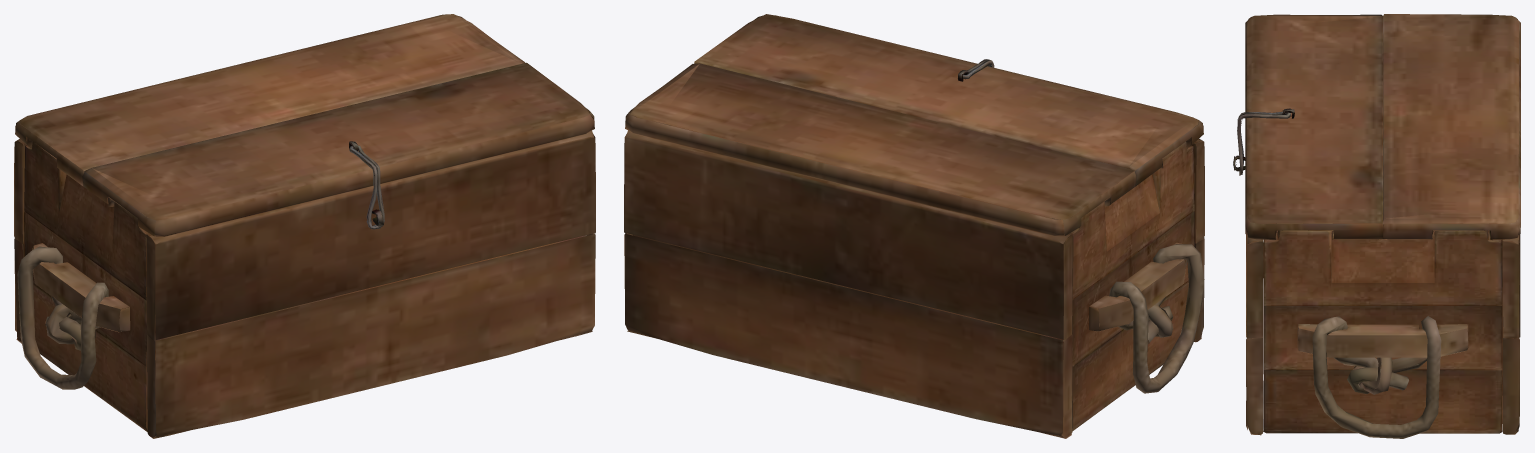
File: crate.glb
3 renders of one model, left to right at view 1: azimuth 30°, elevation 25°; view 2: azimuth 150°, elevation 25°; view 3: azimuth 270°, elevation 25°, orthographic. The views are drawn at different scales.
Parts seen in each view (by area): view 1: wooden_crate_01_lid; view 2: wooden_crate_01_lid; view 3: wooden_crate_01_lid.
Boxes of the visible parts, x1,y1,x2,y2 form: wooden_crate_01_lid: (14, 14, 595, 438); wooden_crate_01_lid: (624, 14, 1204, 438); wooden_crate_01_lid: (1233, 14, 1520, 438).
Bounding box in the file's own units: 0.8249 × 0.3485 × 0.4088.
Materials: 1 (1 with a texture image).
